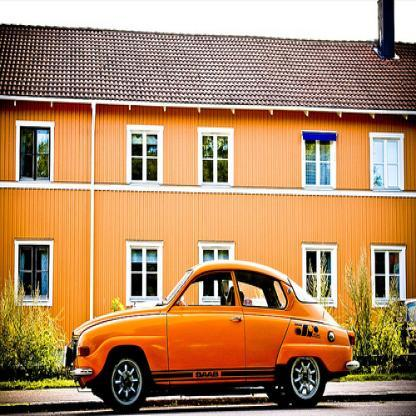car: (63, 255, 364, 408)
